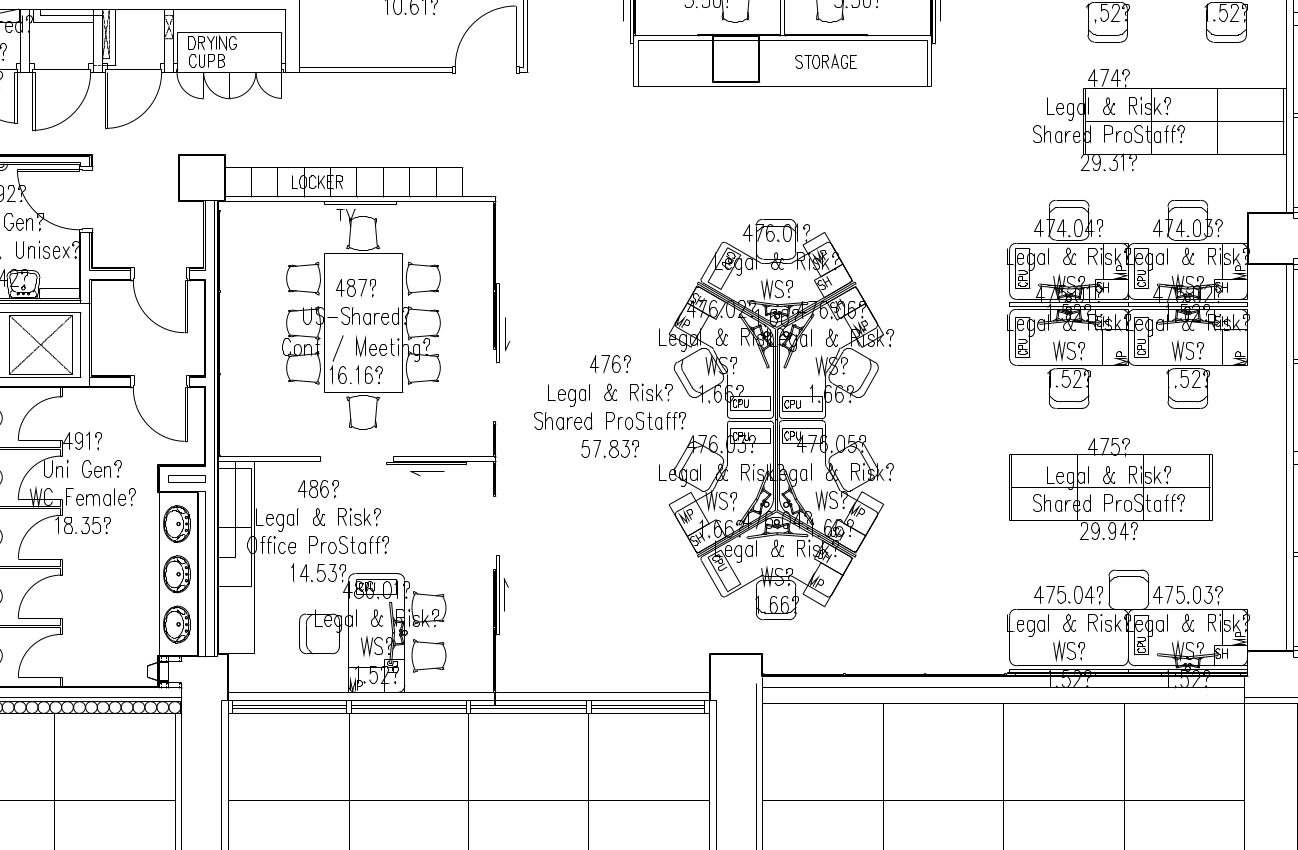door: (449, 3, 521, 73), (14, 164, 83, 235), (126, 277, 195, 348), (123, 383, 192, 454), (96, 70, 163, 134), (27, 70, 94, 134), (14, 390, 65, 444), (7, 449, 58, 503), (7, 511, 58, 565), (14, 568, 65, 622), (12, 631, 63, 685)
